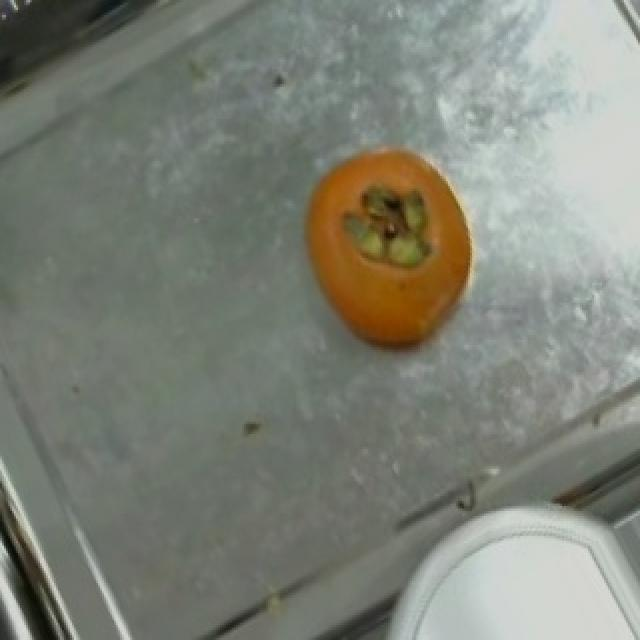Fruit: (278, 124, 500, 370), (396, 506, 640, 640)
